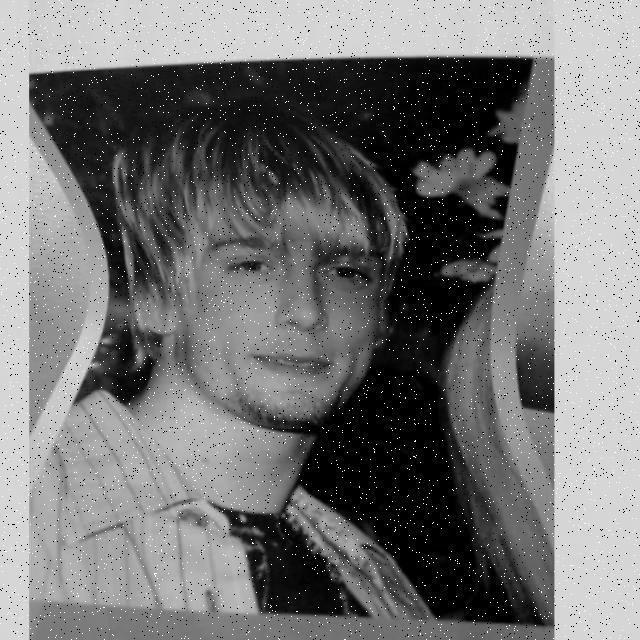fake: (31, 30, 556, 626)
